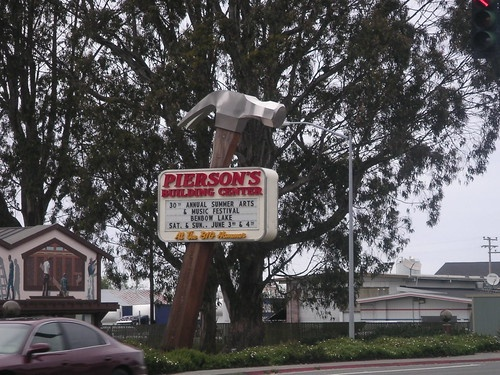hammer: (163, 90, 284, 347)
